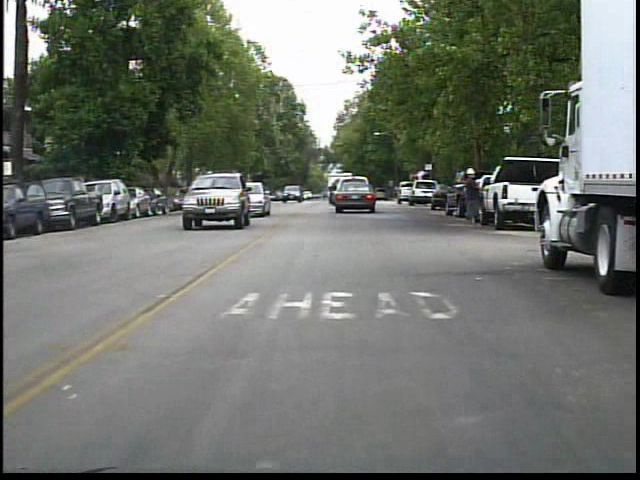person: (457, 164, 488, 231)
